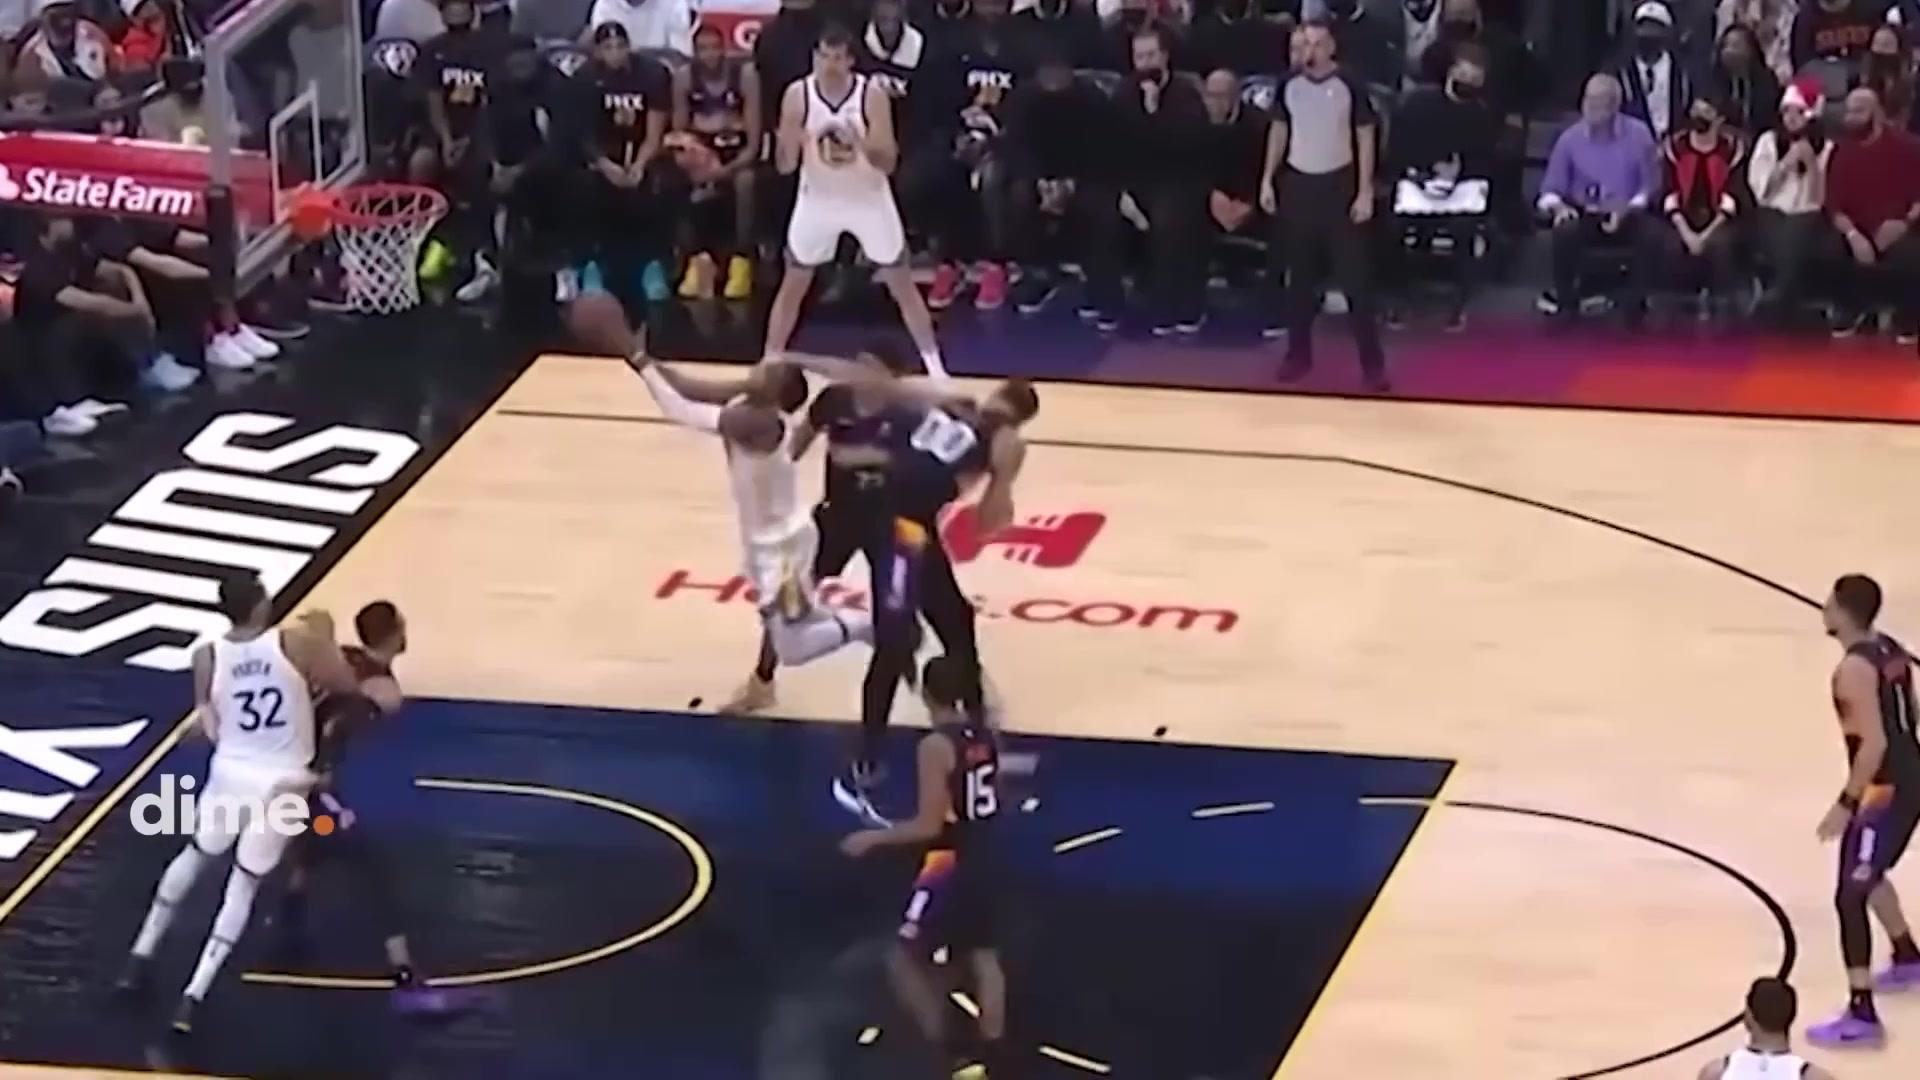foul: (630, 297, 1029, 793)
